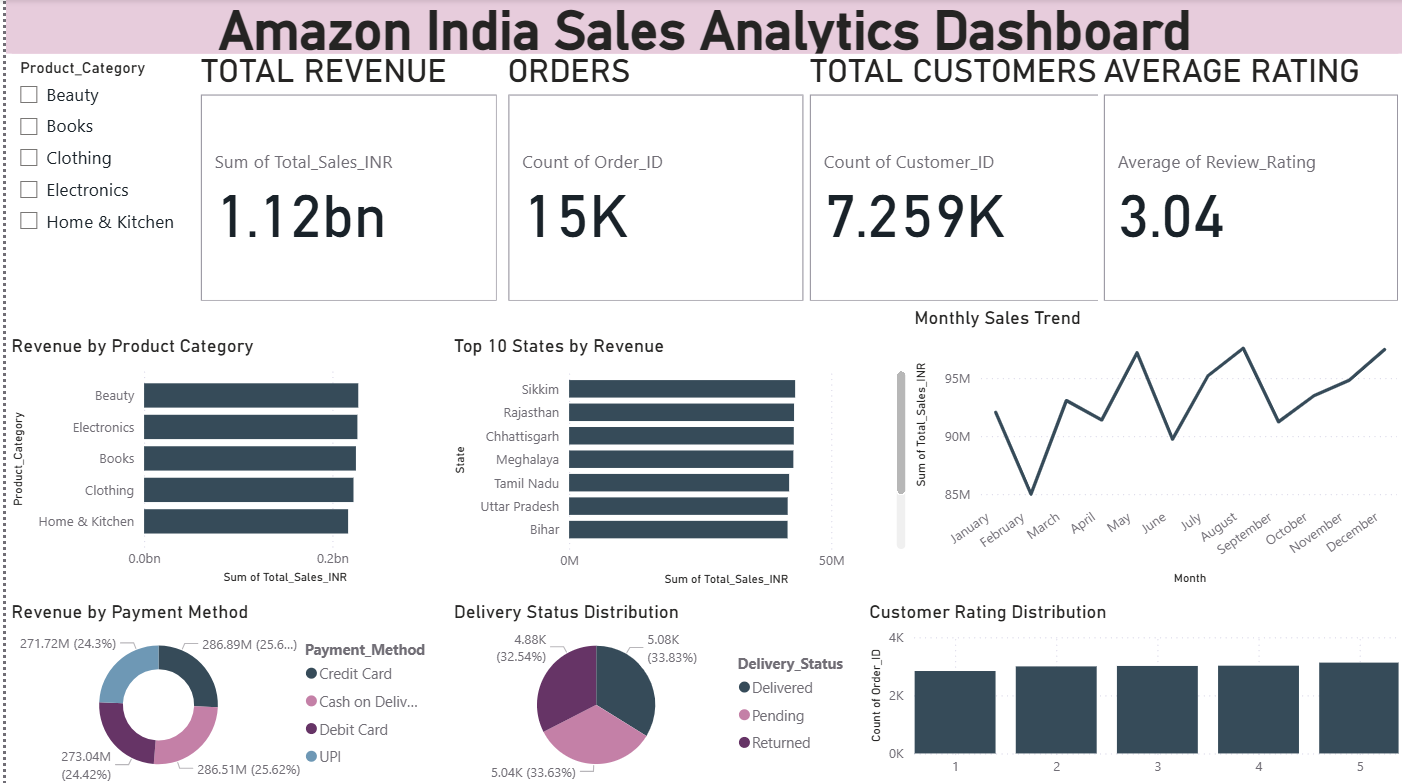

The page's visual inventory and layout, read from the dashboard file:
{"tool":"powerbi","page":{"name":"Page 1","canvas":[1280,720],"ordinal":0},"visuals":[{"type":"cardVisual","title":"TOTAL REVENUE","fields":{"Data":["Sum(amazon_sales_2025_INR (1).Total_Sales_INR)"]},"box":[172.6,48.5,281.6,233.2],"z":0},{"type":"cardVisual","title":"ORDERS","fields":{"Data":["Count(amazon_sales_2025_INR (1).Order_ID)"]},"box":[454.3,48.5,280.1,233.2],"z":1000},{"type":"cardVisual","title":"TOTAL CUSTOMERS","fields":{"Data":["Count(amazon_sales_2025_INR (1).Customer_ID)"]},"box":[729.8,48.5,280.1,233.2],"z":2000},{"type":"cardVisual","title":"AVERAGE RATING","fields":{"Data":["Avg(amazon_sales_2025_INR (1).Review_Rating)"]},"box":[999.4,48.5,280.1,233.2],"z":3000},{"type":"clusteredBarChart","title":"Revenue by Product Category","fields":{"Category":["amazon_sales_2025_INR (1).Product_Category"],"Y":["Sum(amazon_sales_2025_INR (1).Total_Sales_INR)"]},"box":[0,307,404.4,231.6],"z":4000},{"type":"clusteredBarChart","title":"Top 10 States by Revenue","fields":{"Category":["amazon_sales_2025_INR (1).State"],"Y":["Sum(amazon_sales_2025_INR (1).Total_Sales_INR)"]},"box":[404.4,307,422.8,233.5],"z":5000},{"type":"donutChart","title":"Revenue by Payment Method","fields":{"Category":["amazon_sales_2025_INR (1).Payment_Method"],"Y":["Sum(amazon_sales_2025_INR (1).Total_Sales_INR)"]},"box":[0,549.6,404.4,171],"z":6000},{"type":"pieChart","title":"Delivery Status Distribution","fields":{"Category":["amazon_sales_2025_INR (1).Delivery_Status"],"Y":["CountNonNull(amazon_sales_2025_INR (1).Order_ID)"]},"box":[404.4,549.6,380.5,171],"z":7000},{"type":"columnChart","title":"Customer Rating Distribution","fields":{"Category":["amazon_sales_2025_INR (1).Review_Rating"],"Y":["CountNonNull(amazon_sales_2025_INR (1).Order_ID)"]},"box":[784.4,549.7,495.1,169.6],"z":8000},{"type":"lineChart","title":"Monthly Sales Trend","fields":{"Category":["amazon_sales_2025_INR (1).Date.Variation.Date Hierarchy.Month"],"Y":["Sum(amazon_sales_2025_INR (1).Total_Sales_INR)"]},"box":[826.8,281.6,452.7,258.9],"z":8001},{"type":"slicer","fields":{"Values":["amazon_sales_2025_INR (1).Product_Category"]},"box":[0,50,172.6,231.7],"z":8002},{"type":"textbox","title":"Amazon India Sales Analytics Dashboard","box":[0,0,1279.5,50],"z":8003}]}

Visuals, with their boxes in screenshot pixels (x1, y1, x2, y2), scaled from the page's 1280x720 canvas onto the 1402x784 screenshot:
"TOTAL REVENUE" cardVisual: 189/53/497/307
"ORDERS" cardVisual: 498/53/804/307
"TOTAL CUSTOMERS" cardVisual: 799/53/1106/307
"AVERAGE RATING" cardVisual: 1095/53/1401/307
"Revenue by Product Category" clusteredBarChart: 0/334/443/586
"Top 10 States by Revenue" clusteredBarChart: 443/334/906/589
"Revenue by Payment Method" donutChart: 0/598/443/783
"Delivery Status Distribution" pieChart: 443/598/860/783
"Customer Rating Distribution" columnChart: 859/599/1401/783
"Monthly Sales Trend" lineChart: 906/307/1401/589
slicer - amazon_sales_2025_INR (1).Product_Category: 0/54/189/307
"Amazon India Sales Analytics Dashboard" textbox: 0/0/1401/54
